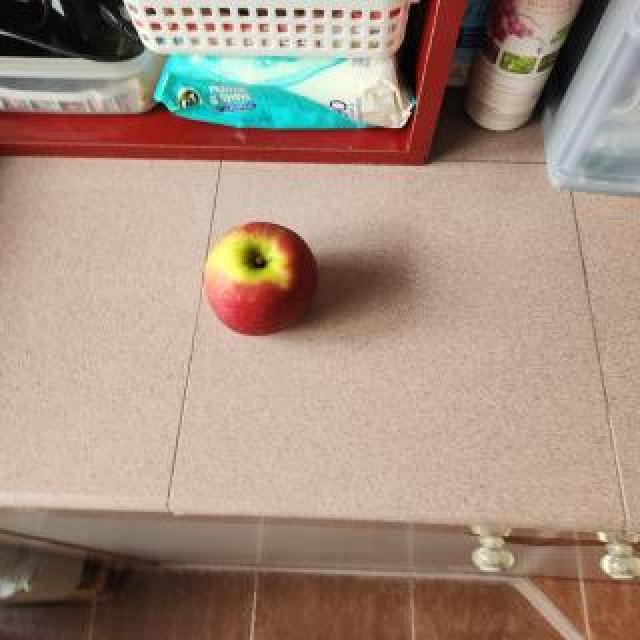Fresh Apple: (198, 225, 306, 331)
